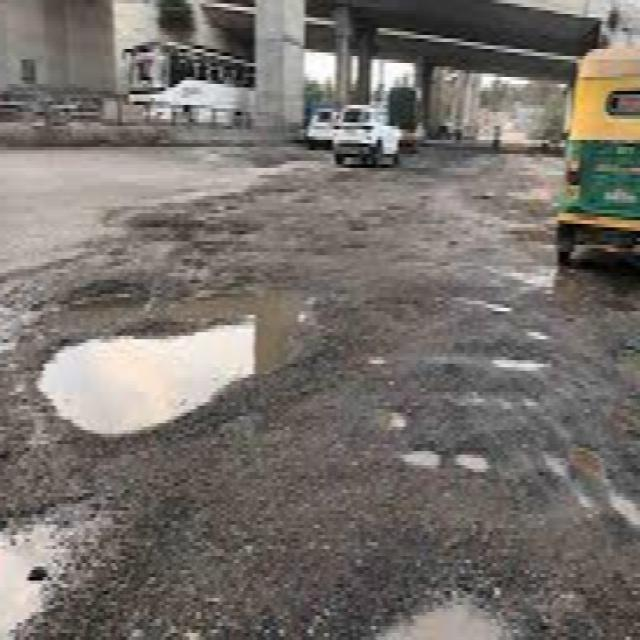Pothole: (28, 266, 348, 449), (0, 484, 122, 640), (336, 566, 550, 640), (566, 438, 640, 532), (448, 284, 524, 320), (492, 354, 558, 382), (592, 287, 640, 315), (458, 440, 491, 480), (392, 447, 444, 470), (378, 408, 416, 433), (530, 329, 559, 348)
